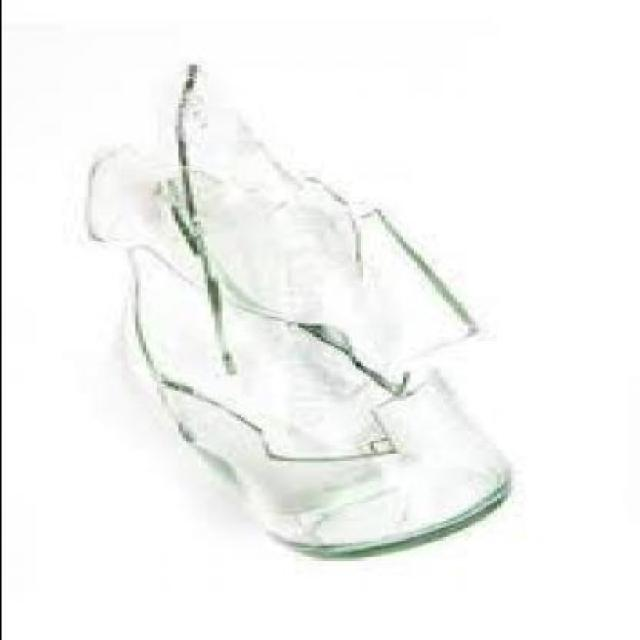GLASS: (137, 240, 517, 557), (177, 61, 481, 393), (90, 153, 141, 242)
